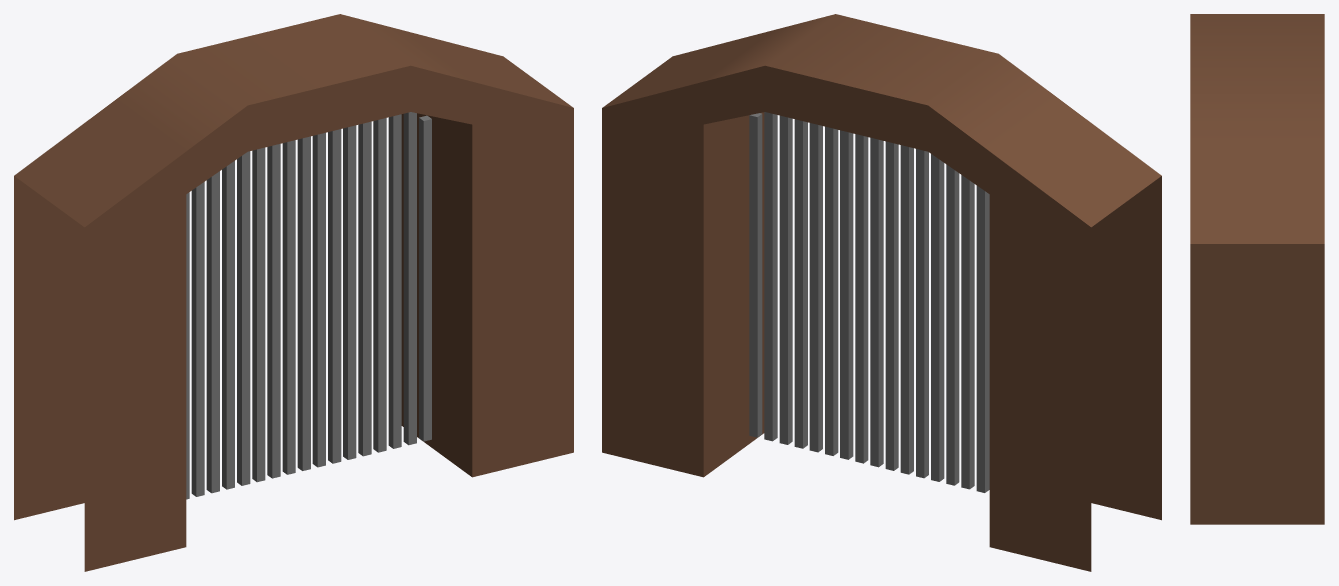
The model's file is Door_MetalBars.fbx.
3 views of the same model, side by side, from view 1: azimuth 30°, elevation 25°; view 2: azimuth 150°, elevation 25°; view 3: azimuth 270°, elevation 25° (orthographic). The views are drawn at different scales.
Visible parts, largest first — view 1: DoorFrame, Door; view 2: DoorFrame, Door; view 3: DoorFrame.
Boxes of the visible parts, x1,y1,x2,y2 form: DoorFrame: (14, 14, 573, 571); Door: (186, 112, 431, 499); DoorFrame: (602, 14, 1161, 571); Door: (749, 112, 989, 492); DoorFrame: (1190, 14, 1324, 524).
Size of the model in its own units: 300 by 250 by 75.
1 material, 1 textured.
